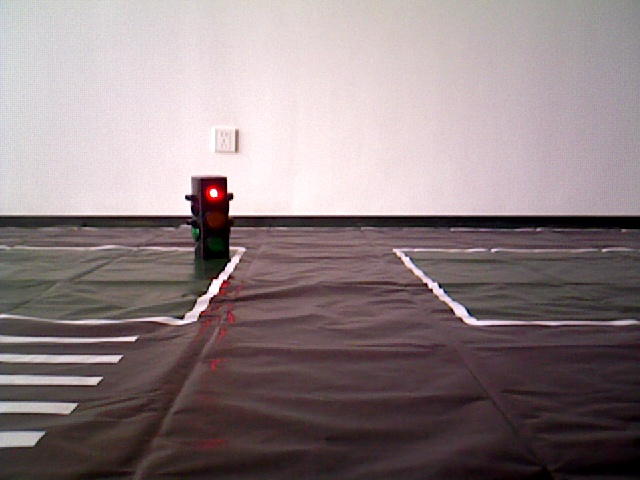red: (191, 179, 227, 269)
